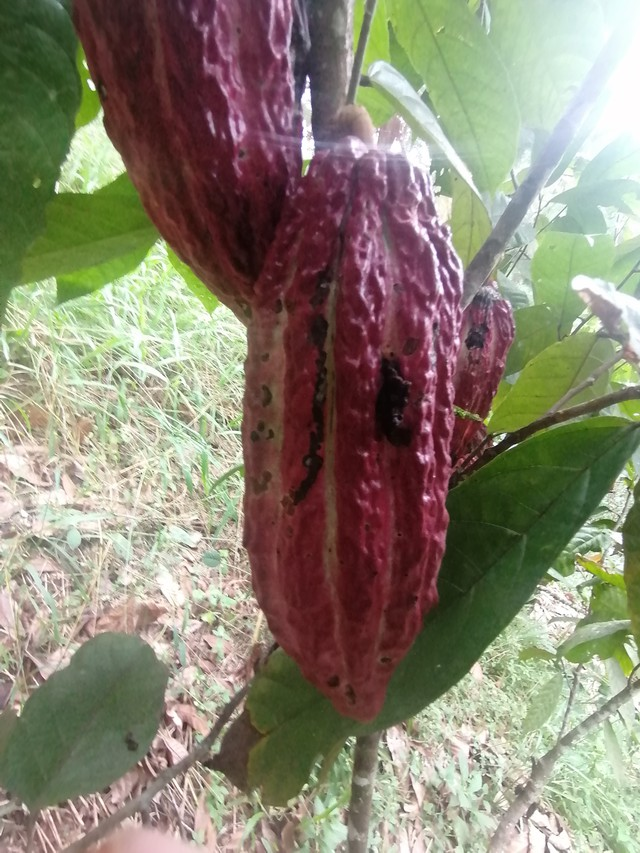carmenta foraseminis: (243, 136, 468, 729), (61, 3, 302, 317)
